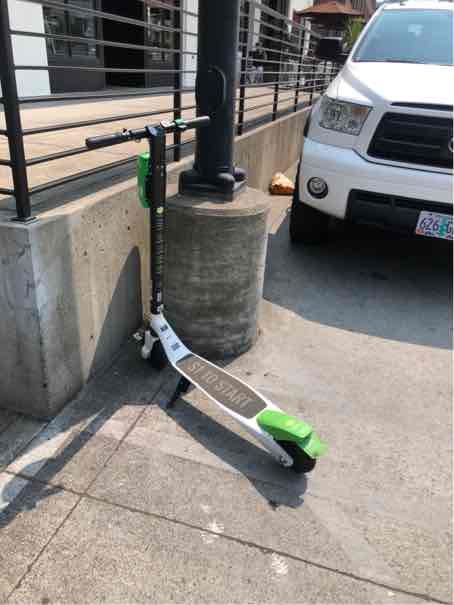scooter: (72, 112, 330, 487)
